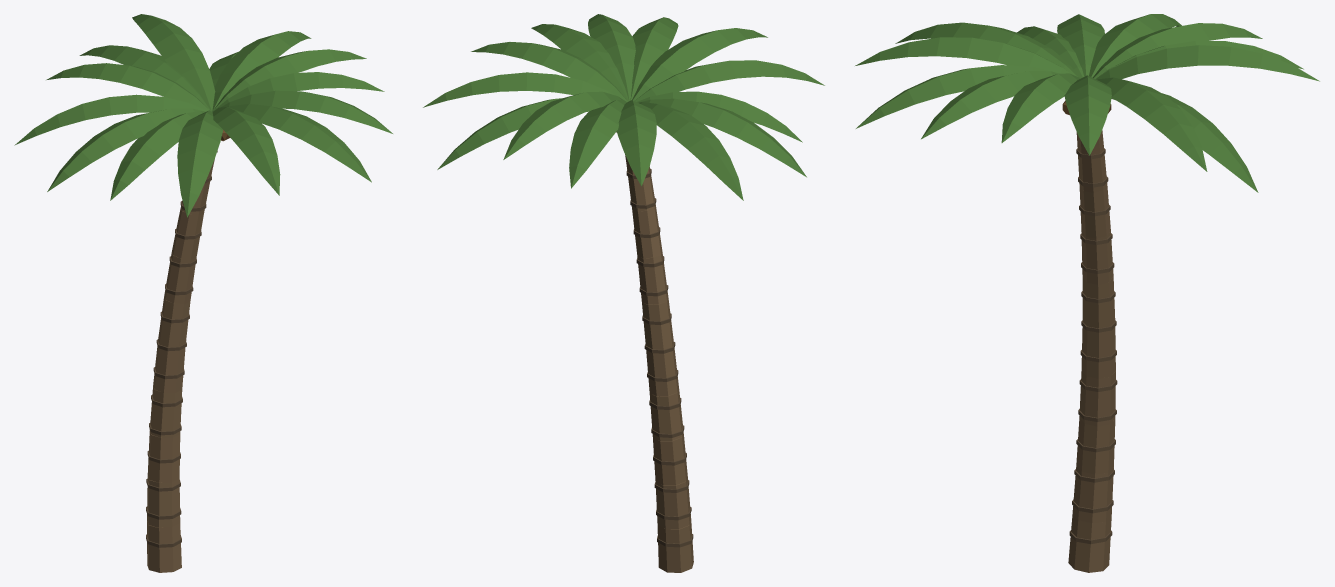
Rendered from decorativos-palma-coco.glb.
The picture shows the model from 3 angles, left to right: view 1: azimuth 30°, elevation 25°; view 2: azimuth 150°, elevation 25°; view 3: azimuth 270°, elevation 25°; orthographic projection. The views are drawn at different scales.
Visible parts, largest first — view 1: palma_coco_HojaPalma, palma_coco_Tronco, palma_coco_AnilloTronco; view 2: palma_coco_HojaPalma, palma_coco_Tronco, palma_coco_AnilloTronco; view 3: palma_coco_HojaPalma, palma_coco_Tronco, palma_coco_AnilloTronco.
Part boxes in pixels (box(x1,y1,x2,y2)): palma_coco_HojaPalma: box(14, 14, 392, 217); palma_coco_Tronco: box(147, 159, 214, 572); palma_coco_AnilloTronco: box(146, 151, 217, 547); palma_coco_HojaPalma: box(423, 14, 824, 200); palma_coco_Tronco: box(625, 154, 693, 572); palma_coco_AnilloTronco: box(626, 169, 693, 547); palma_coco_HojaPalma: box(855, 14, 1319, 192); palma_coco_Tronco: box(1068, 130, 1115, 572); palma_coco_AnilloTronco: box(1069, 148, 1117, 544).
Bounding box in the file's own units: 6.3 × 8.93 × 6.84.
